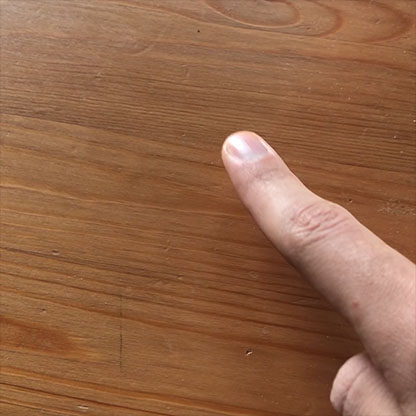fingertip: (211, 122, 281, 175)
